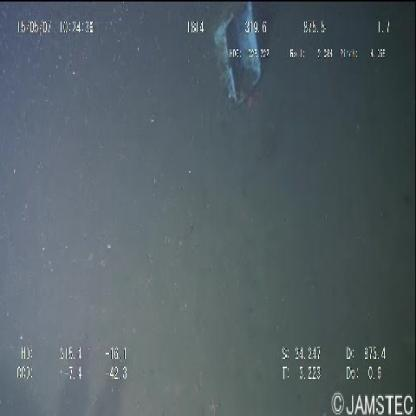Rác: (210, 1, 265, 116)
